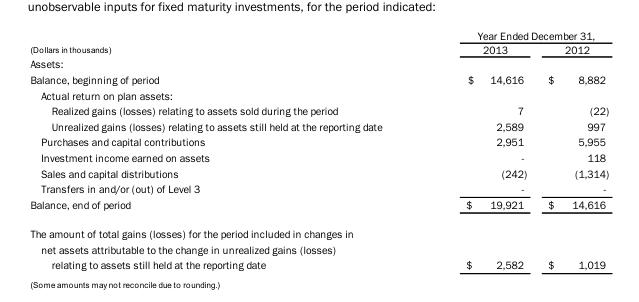table: (29, 28, 608, 270)
table column: (29, 28, 423, 270), (423, 28, 536, 270), (536, 28, 608, 270)
table column header: (29, 28, 608, 56)
table projected row header: (29, 218, 608, 241), (29, 56, 608, 71), (29, 87, 608, 102), (29, 241, 608, 256)
table row: (29, 218, 608, 241), (29, 196, 608, 218), (29, 71, 608, 87), (29, 102, 608, 118), (29, 133, 608, 149), (29, 149, 608, 165), (29, 180, 608, 196), (29, 56, 608, 71), (29, 87, 608, 102), (29, 118, 608, 133), (29, 165, 608, 180), (29, 241, 608, 256), (29, 28, 608, 42), (29, 42, 608, 56), (29, 256, 608, 270)
table spanning cell: (29, 28, 423, 56), (423, 28, 608, 42)
